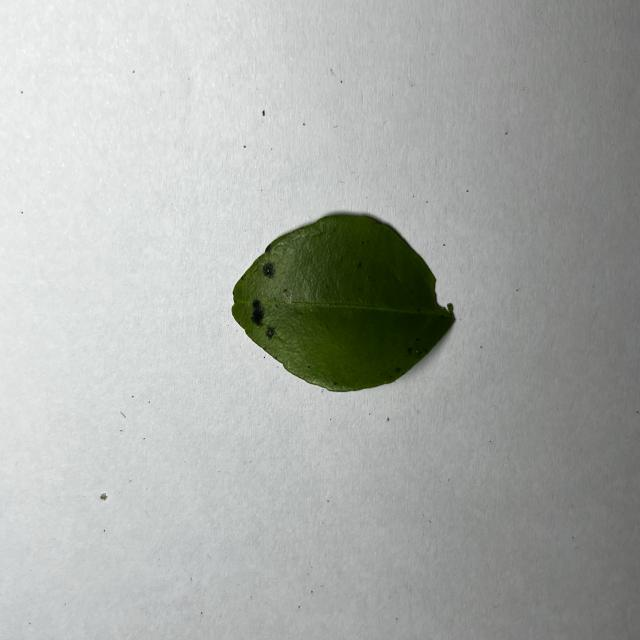sooty_mold: (232, 214, 455, 391)
